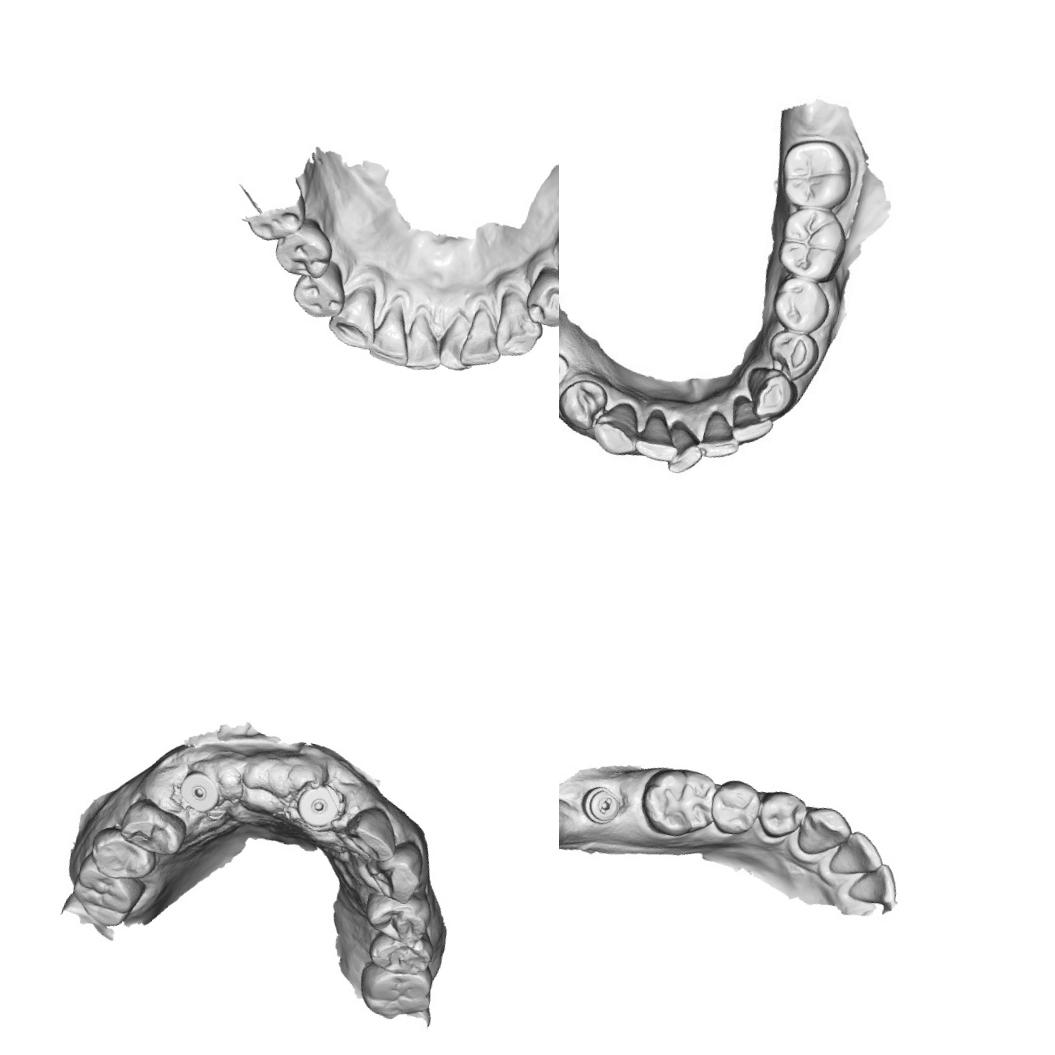canine: (364, 834, 435, 909), (486, 286, 552, 364), (323, 278, 387, 353), (793, 800, 857, 864), (588, 397, 648, 461), (740, 361, 800, 424)
implant: (291, 778, 345, 831), (172, 767, 226, 818), (559, 351, 571, 393)
implant_minus: (577, 779, 626, 829)
incisor: (338, 799, 406, 867), (364, 296, 422, 369), (825, 825, 890, 887), (456, 303, 510, 375), (399, 310, 451, 380), (843, 855, 903, 915), (433, 310, 484, 378), (630, 407, 685, 469), (695, 409, 746, 467), (661, 421, 709, 482), (725, 395, 778, 450)
molar: (634, 757, 724, 845), (774, 132, 863, 220), (770, 198, 853, 287), (62, 854, 146, 935), (350, 958, 440, 1030)
premolar: (114, 792, 192, 861), (355, 886, 434, 950), (87, 822, 163, 887), (768, 272, 838, 340), (271, 212, 338, 283), (288, 252, 354, 324), (702, 773, 766, 842), (364, 926, 438, 982), (763, 323, 822, 383), (754, 784, 813, 844), (559, 371, 610, 437), (522, 261, 559, 335)
